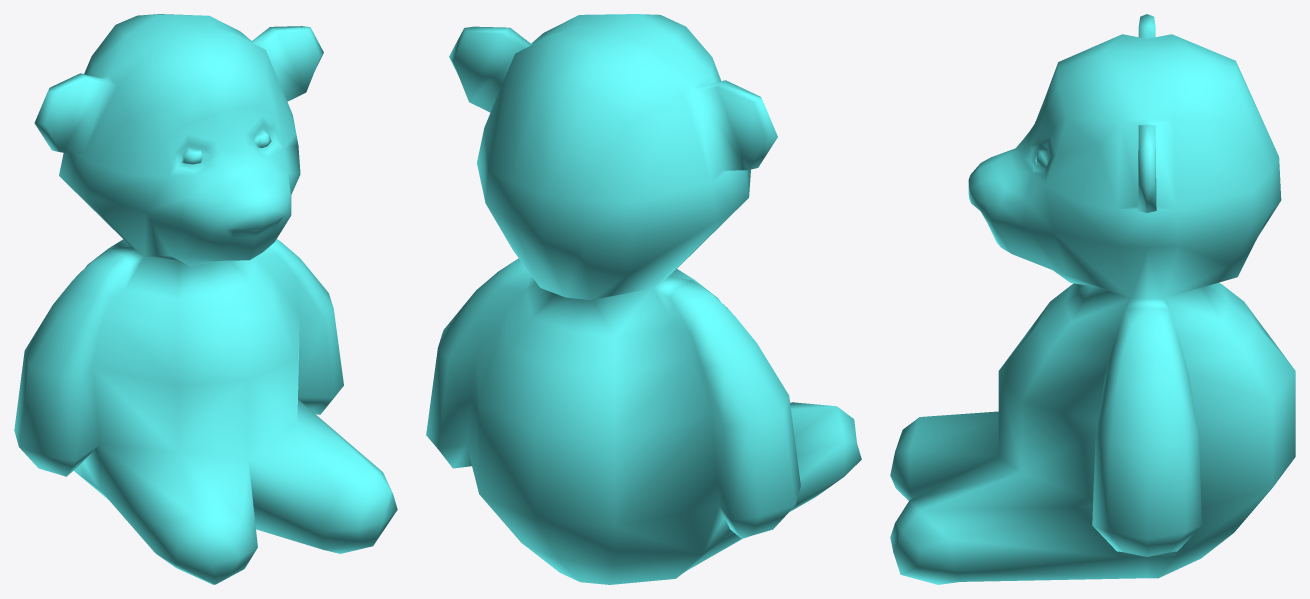
3 renders of one model, left to right at view 1: azimuth 30°, elevation 25°; view 2: azimuth 150°, elevation 25°; view 3: azimuth 270°, elevation 25°, orthographic. The views are drawn at different scales.
Visible parts, largest first — view 1: 곰돌이_; view 2: 곰돌이_; view 3: 곰돌이_.
Boxes of the visible parts, x1=… form: 곰돌이_: x1=14, y1=14, x2=397, y2=584; 곰돌이_: x1=426, y1=14, x2=861, y2=584; 곰돌이_: x1=890, y1=14, x2=1295, y2=584.
Bounding box in the file's own units: 65.51 × 67.1 × 91.5.
